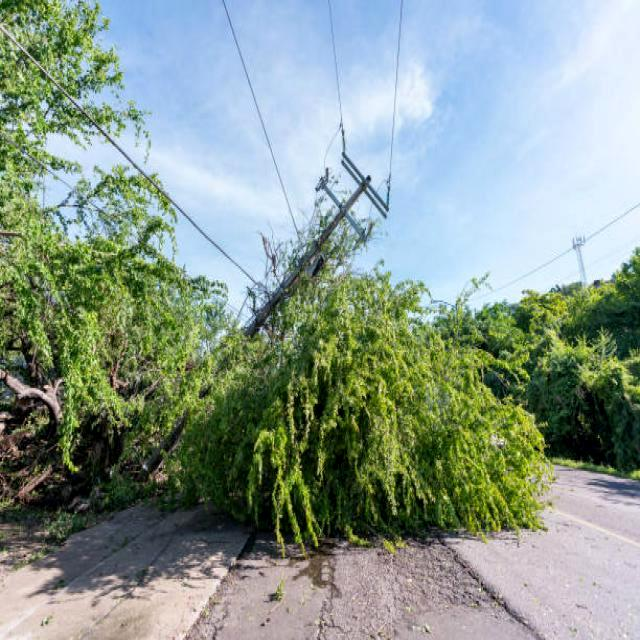Broken Pole: (124, 125, 411, 488)
